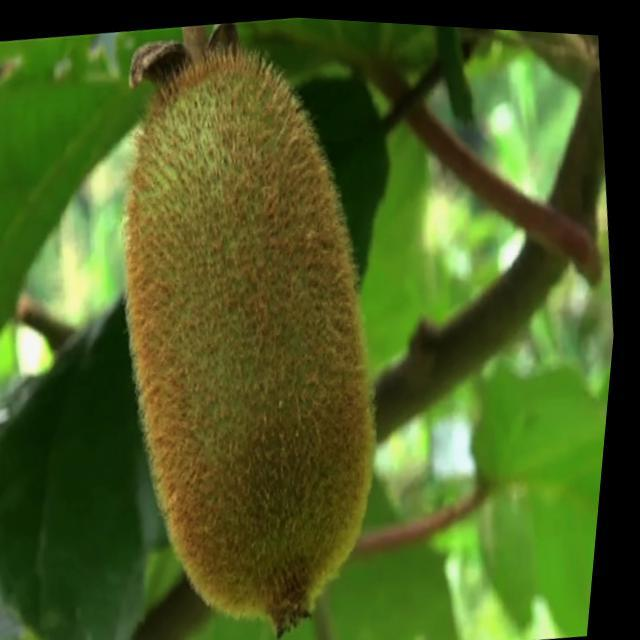kiwi: (59, 26, 441, 640)
